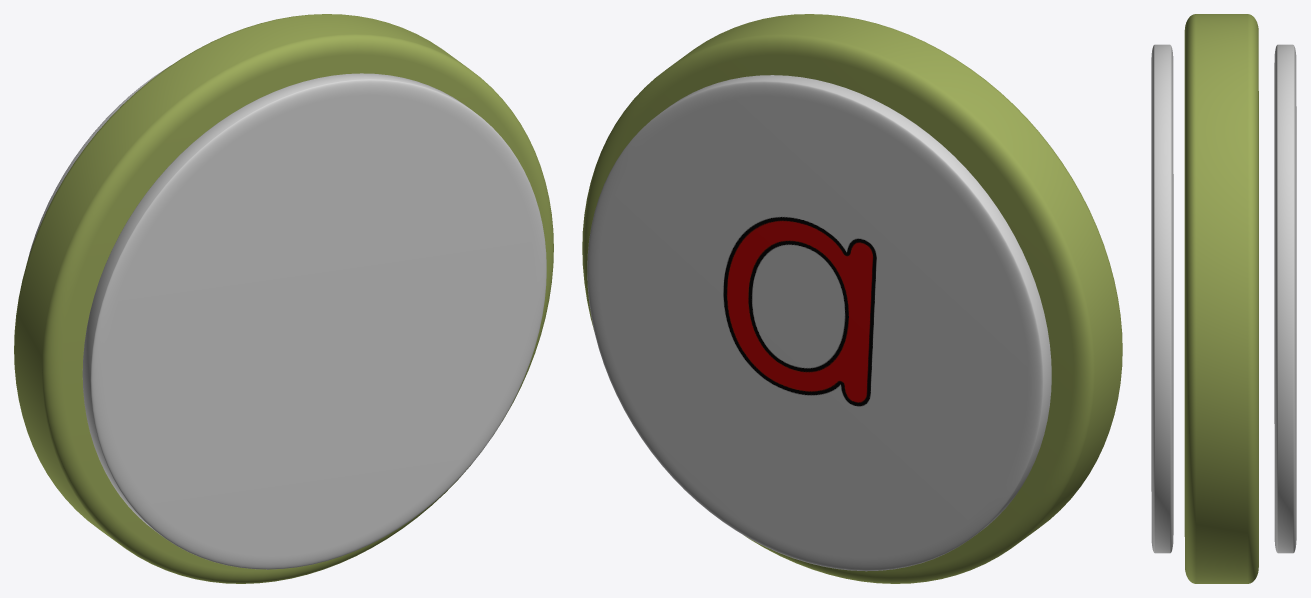
The model's file is apple6.gltf.
3 views of the same model, side by side, from view 1: azimuth 30°, elevation 25°; view 2: azimuth 150°, elevation 25°; view 3: azimuth 270°, elevation 25° (orthographic). The views are drawn at different scales.
Visible parts, largest first — view 1: Cylinder_2.001, Cylinder.001; view 2: Cylinder_2, Cylinder.001; view 3: Cylinder.001, Cylinder_2, Cylinder_2.001.
Part boxes in pixels (box(x1,y1,x2,y2)): Cylinder_2.001: box(82, 73, 546, 569); Cylinder.001: box(14, 14, 553, 583); Cylinder_2: box(587, 75, 1051, 571); Cylinder.001: box(582, 14, 1122, 583); Cylinder.001: box(1184, 14, 1258, 583); Cylinder_2: box(1274, 44, 1296, 553); Cylinder_2.001: box(1151, 44, 1173, 553).
Size of what is drawn, in the model's own units: 2.56 by 2.56 by 0.6518.
Materials: 2 (1 with a texture image).
